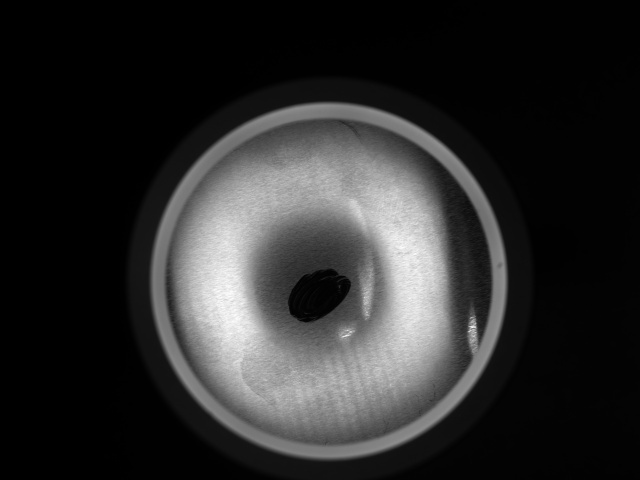zang_wu: (287, 267, 353, 327)
